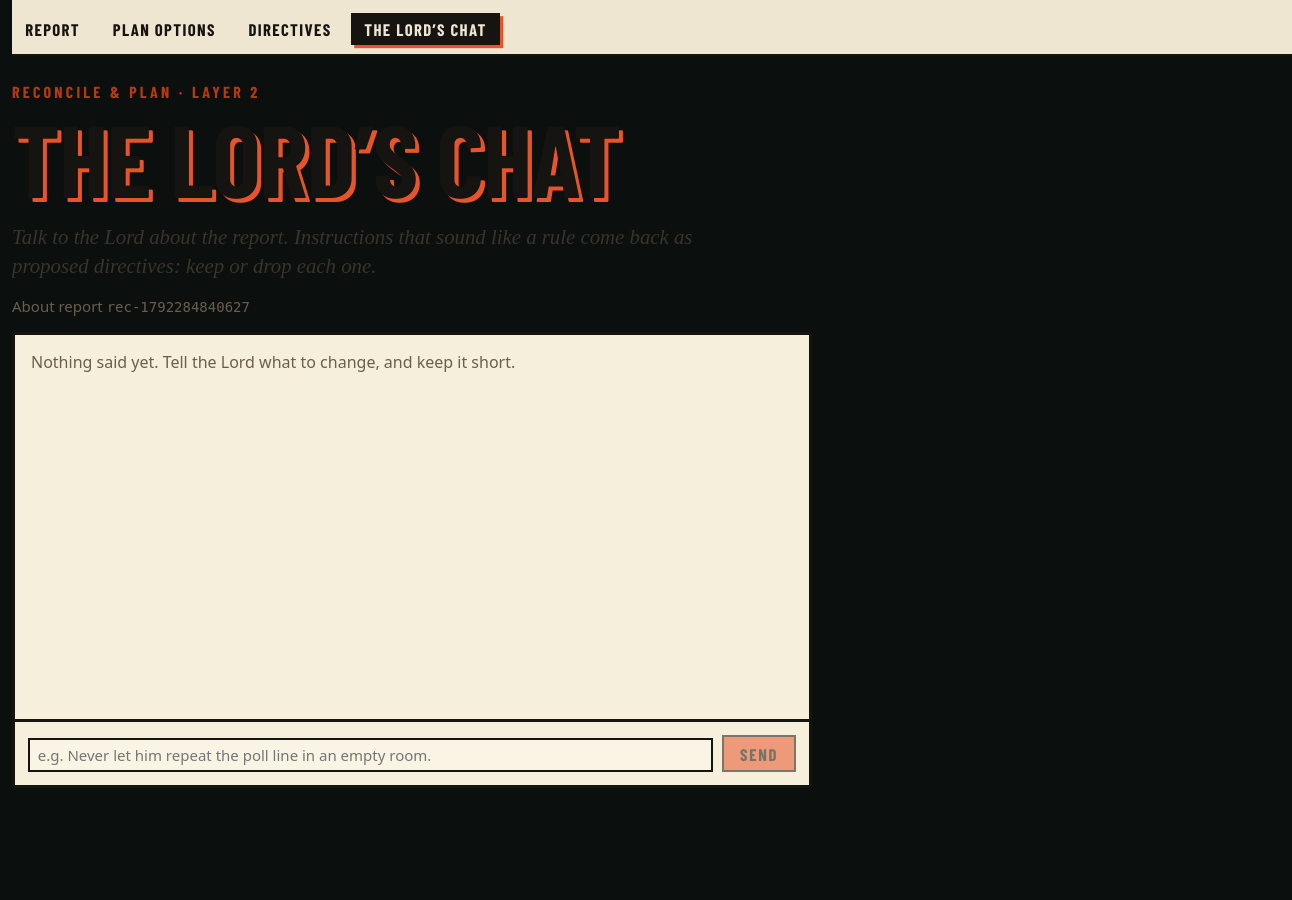
it: reconcile/chat › sends to lord.chat and shows the directives the reply proposed as chips
Type "Never repeat the poll line." into the field named "Message the Lord" at (370, 755), box x1=28 y1=738 x2=712 y2=772
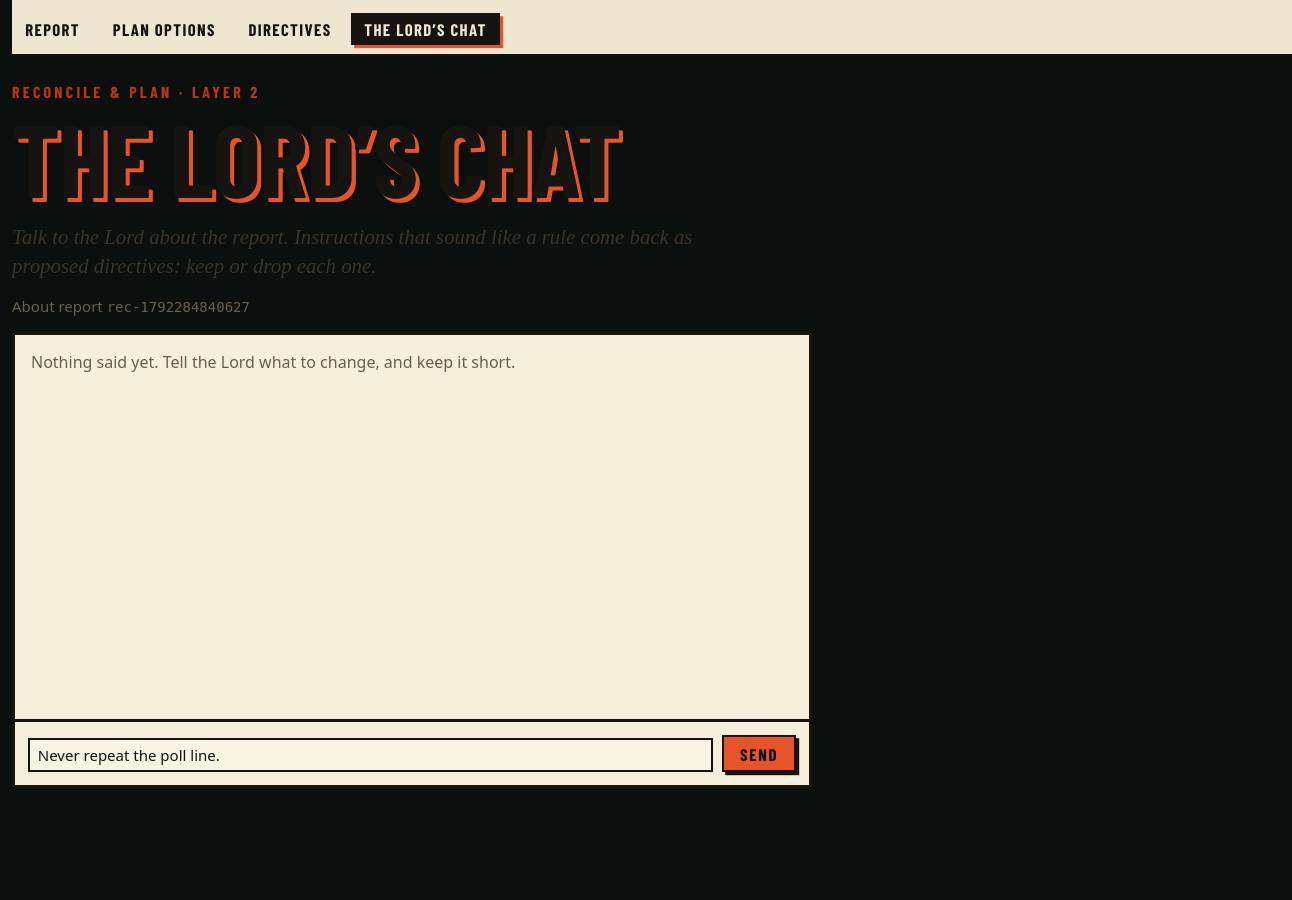
Click the button named "Send" at (759, 754), box x1=722 y1=735 x2=796 y2=772
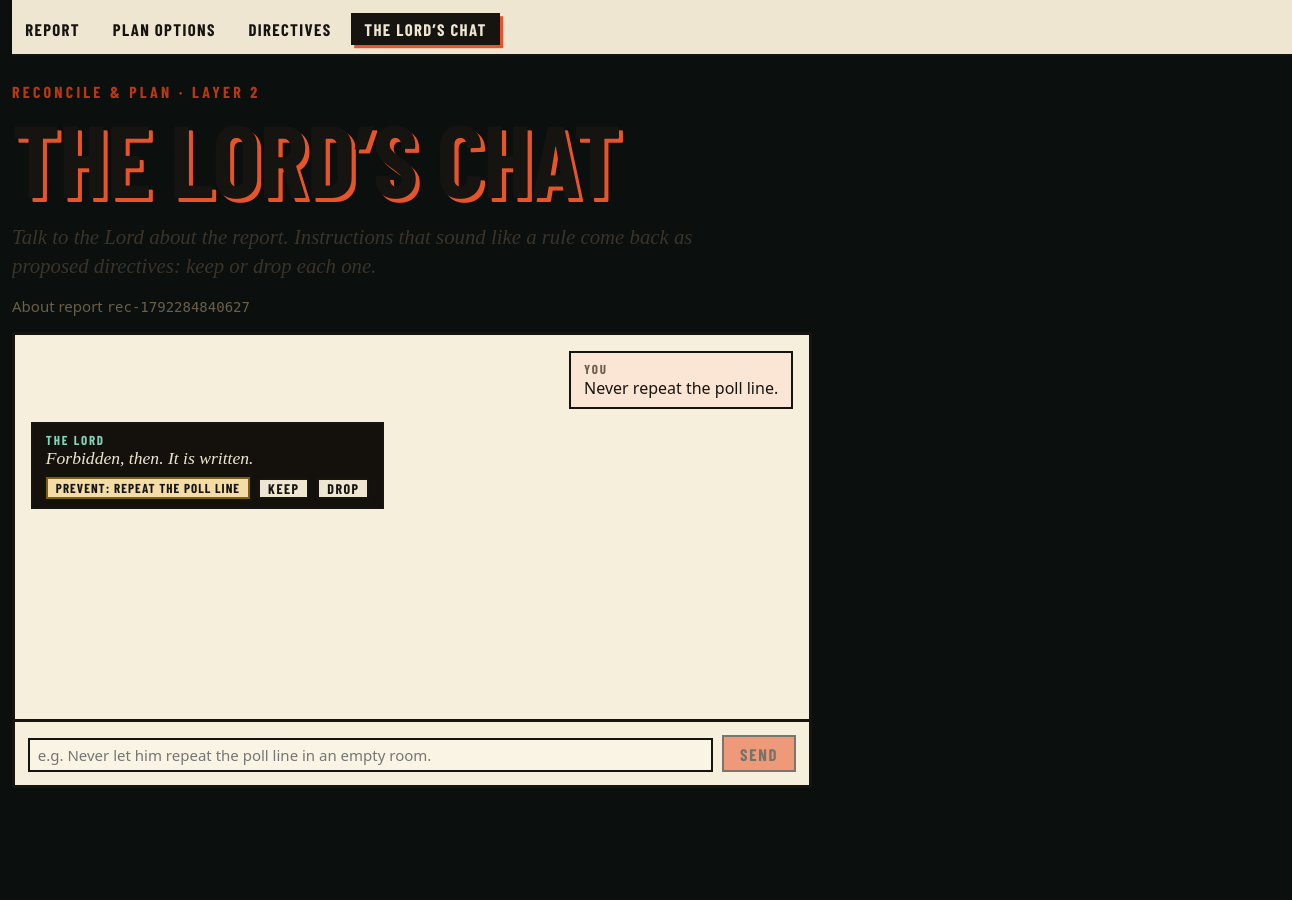
Expected: the text "Forbidden, then. It is written." is shown, x1=46 y1=448 x2=254 y2=468
Expected: the text "prevent: repeat the poll line" is shown, x1=56 y1=480 x2=240 y2=496
